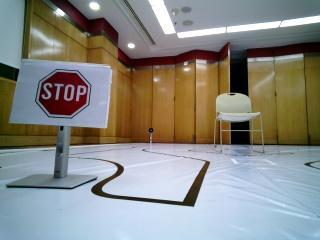stop: (20, 67, 115, 126)
